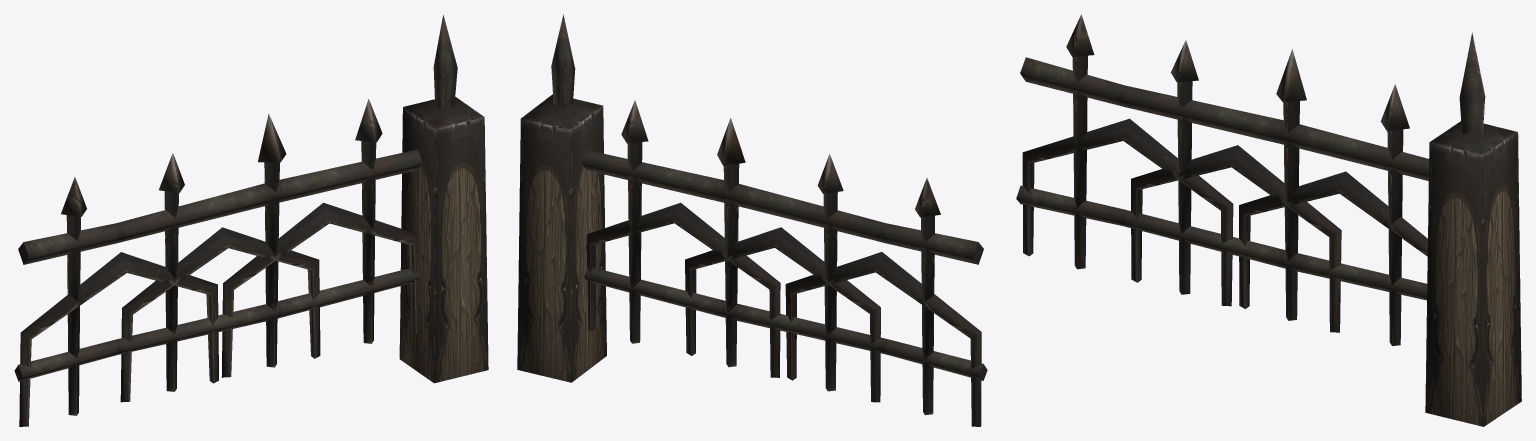
3 renders of one model, left to right at view 1: azimuth 30°, elevation 25°; view 2: azimuth 150°, elevation 25°; view 3: azimuth 330°, elevation 25°, orthographic. The views are drawn at different scales.
Size of the model in its own units: 4.48 by 3.34 by 0.6049.
1 material, 1 textured.
